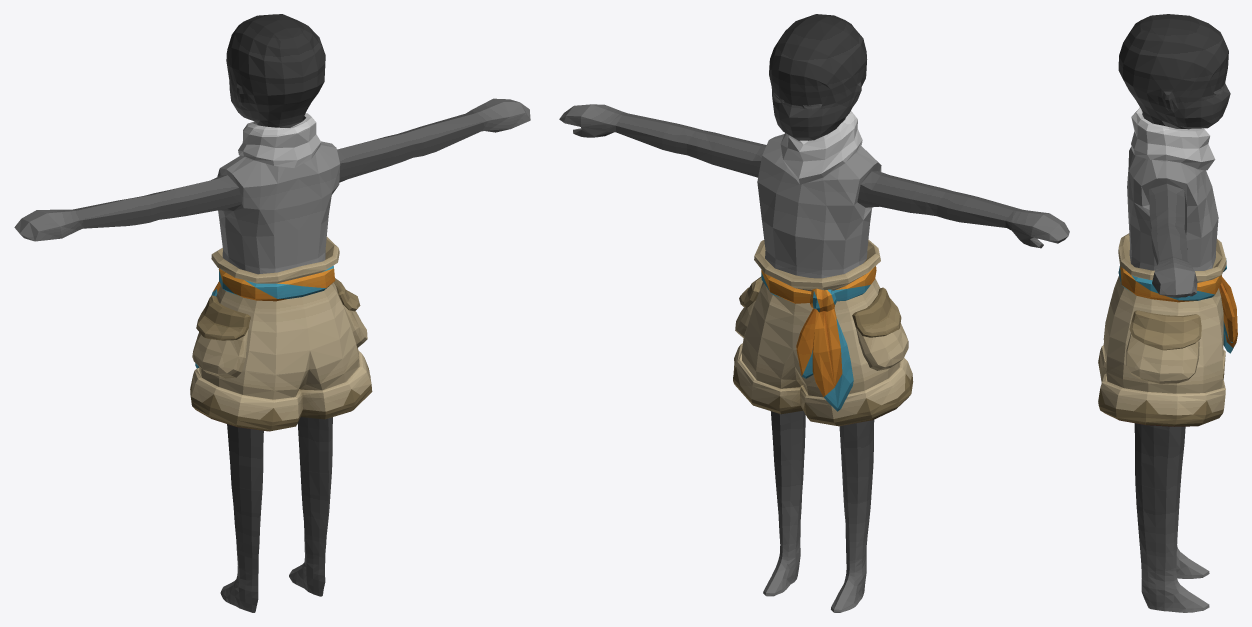
File: CharSkyKid_Body_AP19CargoShorts.glb
3 renders of one model, left to right at view 1: azimuth 30°, elevation 25°; view 2: azimuth 150°, elevation 25°; view 3: azimuth 270°, elevation 25°, orthographic.
Visible parts, largest first — view 1: CharSkyKid_Body_AP19CargoShorts; view 2: CharSkyKid_Body_AP19CargoShorts; view 3: CharSkyKid_Body_AP19CargoShorts.
Boxes of the visible parts, x1,y1,x2,y2 form: CharSkyKid_Body_AP19CargoShorts: (14,14,530,612); CharSkyKid_Body_AP19CargoShorts: (559,14,1069,612); CharSkyKid_Body_AP19CargoShorts: (1098,14,1237,612).
Bounding box in the file's own units: 13.83 × 14.94 × 3.3.
Materials: 1 (1 with a texture image).
